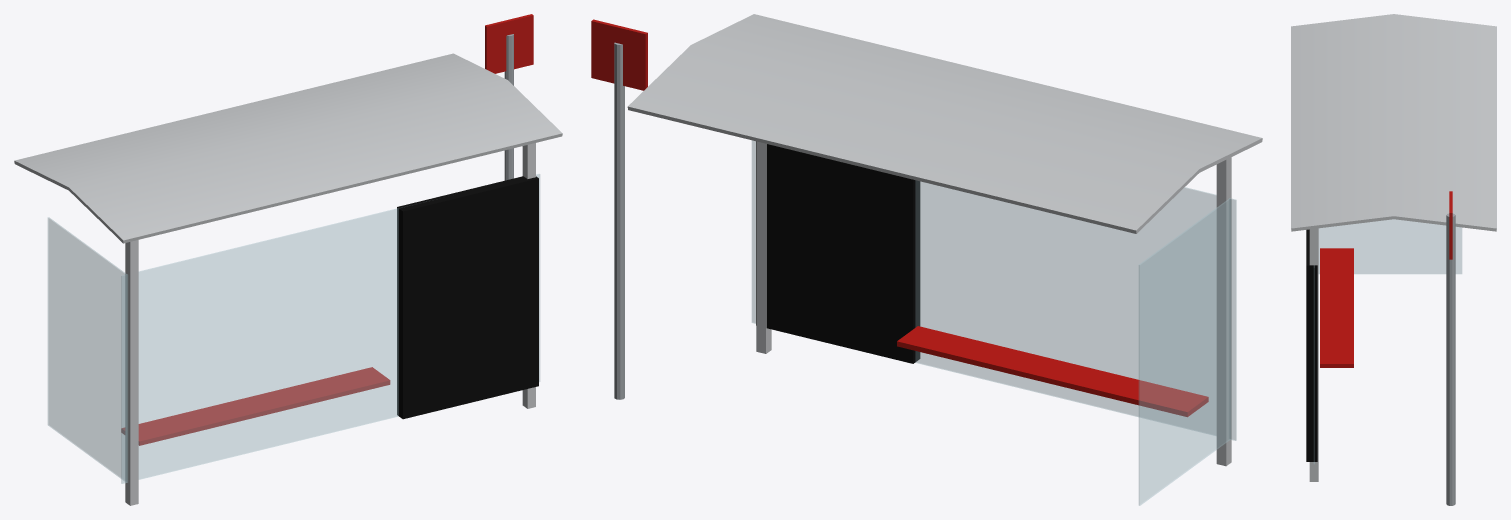
The model's file is street.furniture.bus_shelter.glb.
3 views of the same model, side by side, from view 1: azimuth 30°, elevation 25°; view 2: azimuth 150°, elevation 25°; view 3: azimuth 270°, elevation 25° (orthographic). The views are drawn at different scales.
Parts seen in each view (by area): view 1: main__glass, main__aluminium, main__plastic_black, main__plastic_red, main__hazard_red, main__steel_galvanised; view 2: main__aluminium, main__glass, main__plastic_black, main__plastic_red, main__steel_galvanised, main__hazard_red; view 3: main__aluminium, main__glass, main__plastic_red, main__steel_galvanised, main__plastic_black, main__hazard_red.
Boxes of the visible parts, x1,y1,x2,y2 form: main__glass: [48, 174, 539, 483]; main__aluminium: [14, 53, 562, 505]; main__plastic_black: [397, 176, 538, 419]; main__plastic_red: [121, 367, 390, 445]; main__hazard_red: [485, 14, 533, 73]; main__steel_galvanised: [504, 34, 513, 180]; main__aluminium: [627, 14, 1262, 466]; main__glass: [752, 140, 1236, 505]; main__plastic_black: [756, 141, 920, 363]; main__plastic_red: [897, 326, 1208, 416]; main__steel_galvanised: [614, 42, 624, 399]; main__hazard_red: [591, 19, 647, 90]; main__aluminium: [1291, 14, 1496, 481]; main__glass: [1314, 219, 1461, 463]; main__plastic_red: [1320, 248, 1353, 367]; main__steel_galvanised: [1446, 213, 1455, 505]; main__plastic_black: [1306, 229, 1317, 461]; main__hazard_red: [1449, 191, 1452, 259].
Size of the model in its own units: 4.72 by 2.92 by 1.81.
